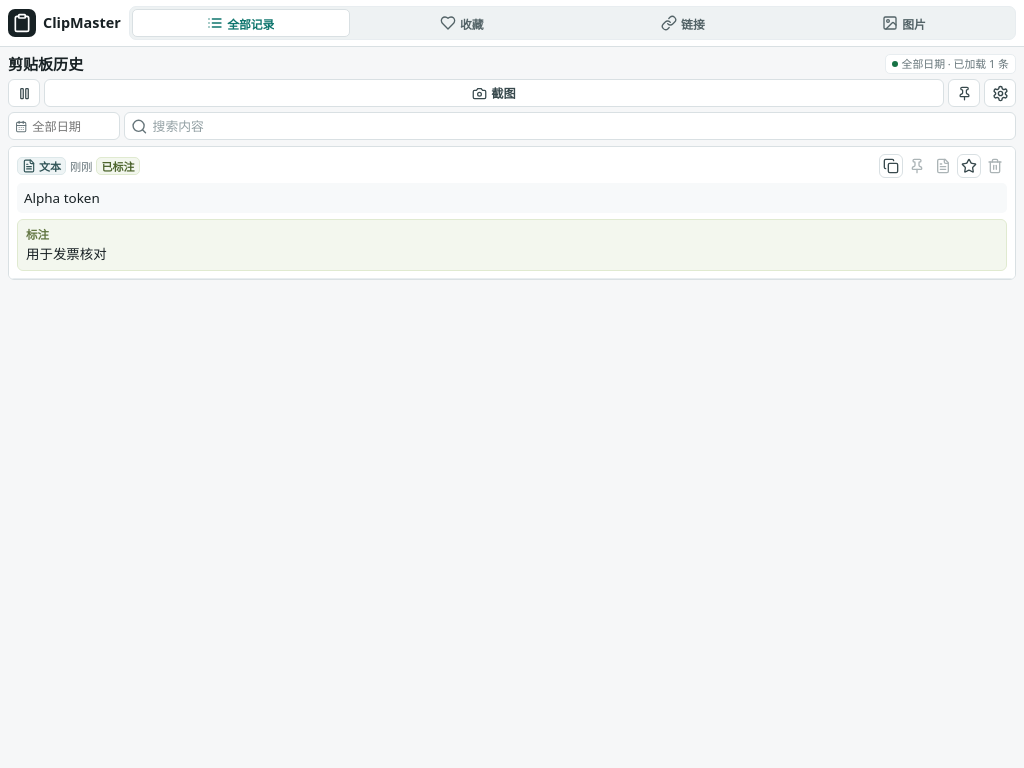
Test: App UI › deletes a protected record after explicit confirmation
Expected: the button "Alpha token" is shown, [17,183,1007,213]
Click the button named "删除 Alpha token": (995,166) [983,154,1007,178]
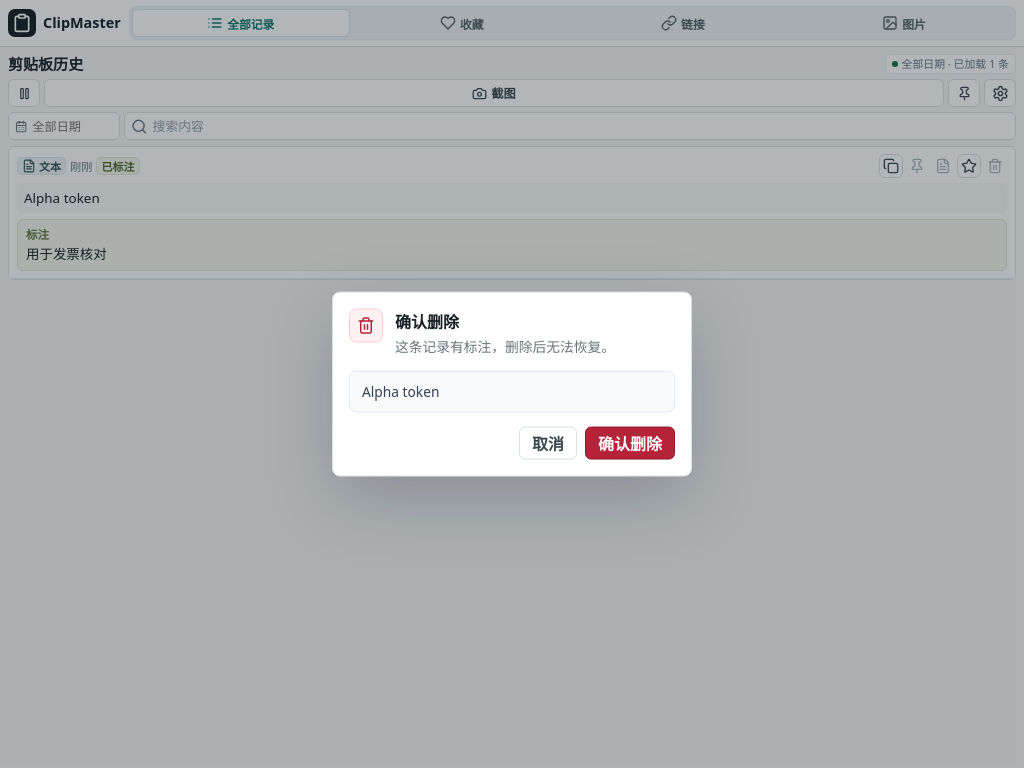
Click the button "确认删除": (630,443) [585,426,675,460]
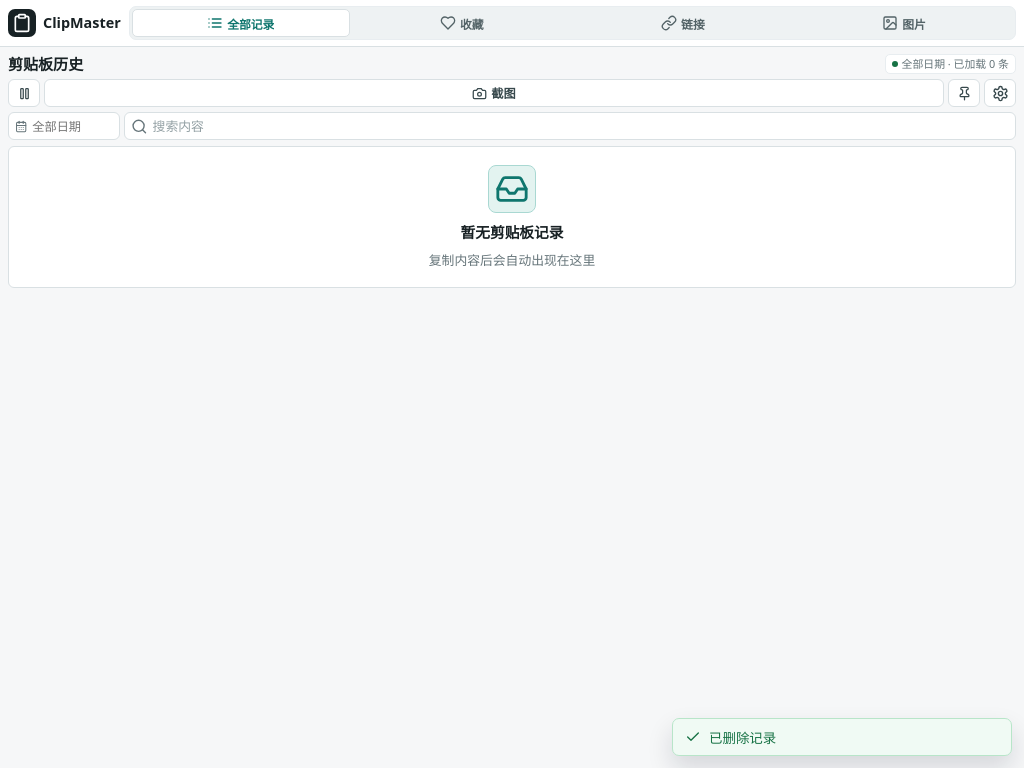
Expected: the heading "确认删除" is gone
Expected: the button "Alpha token" is gone
